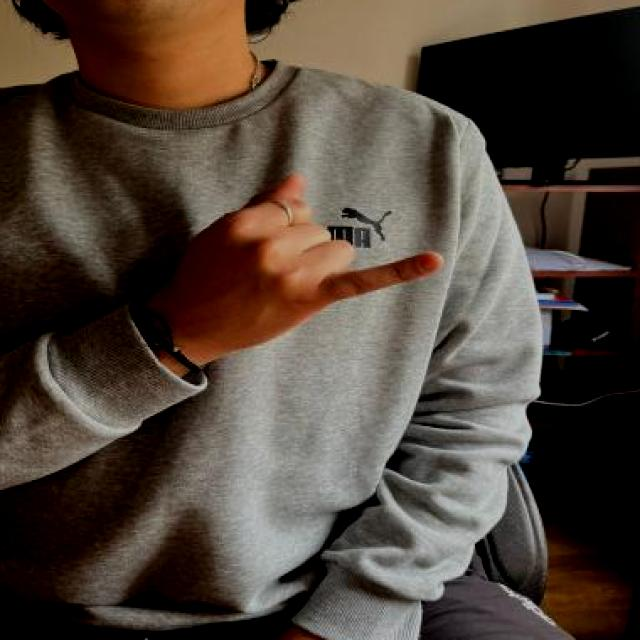J: (154, 160, 449, 349)
